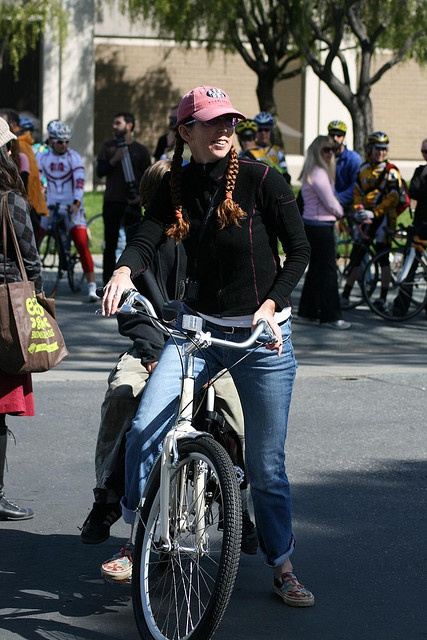non-vehicle: (129, 287, 289, 631), (334, 218, 408, 309), (360, 232, 427, 321), (37, 203, 85, 298)
